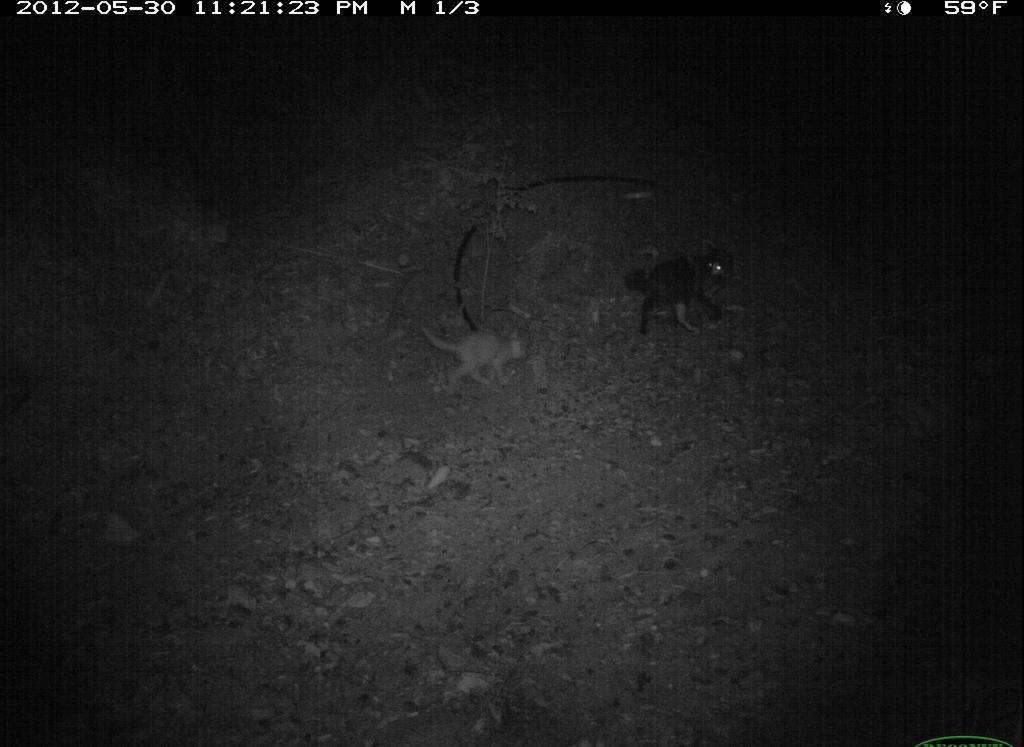cat: (612, 226, 761, 341), (410, 305, 542, 396)
